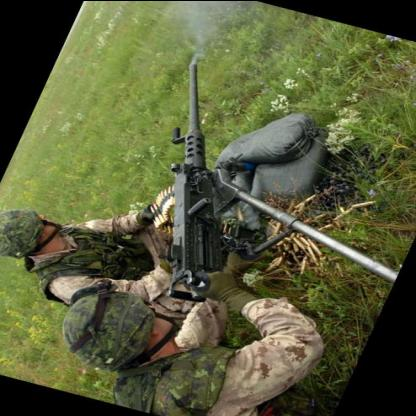rifle: (90, 50, 315, 306)
